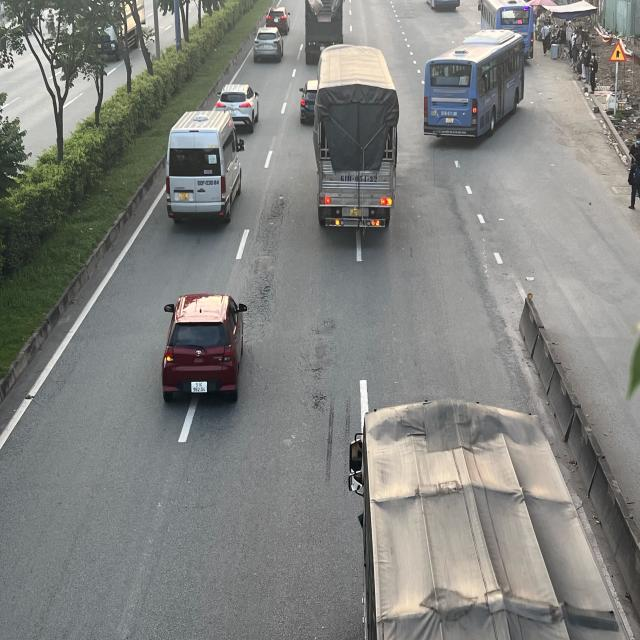car: (162, 296, 250, 403), (216, 81, 258, 130), (255, 27, 288, 63), (268, 7, 291, 35)
coach: (424, 29, 530, 144), (479, 0, 534, 54)
truck: (346, 403, 633, 640), (314, 45, 400, 233)
van: (166, 107, 244, 225)
